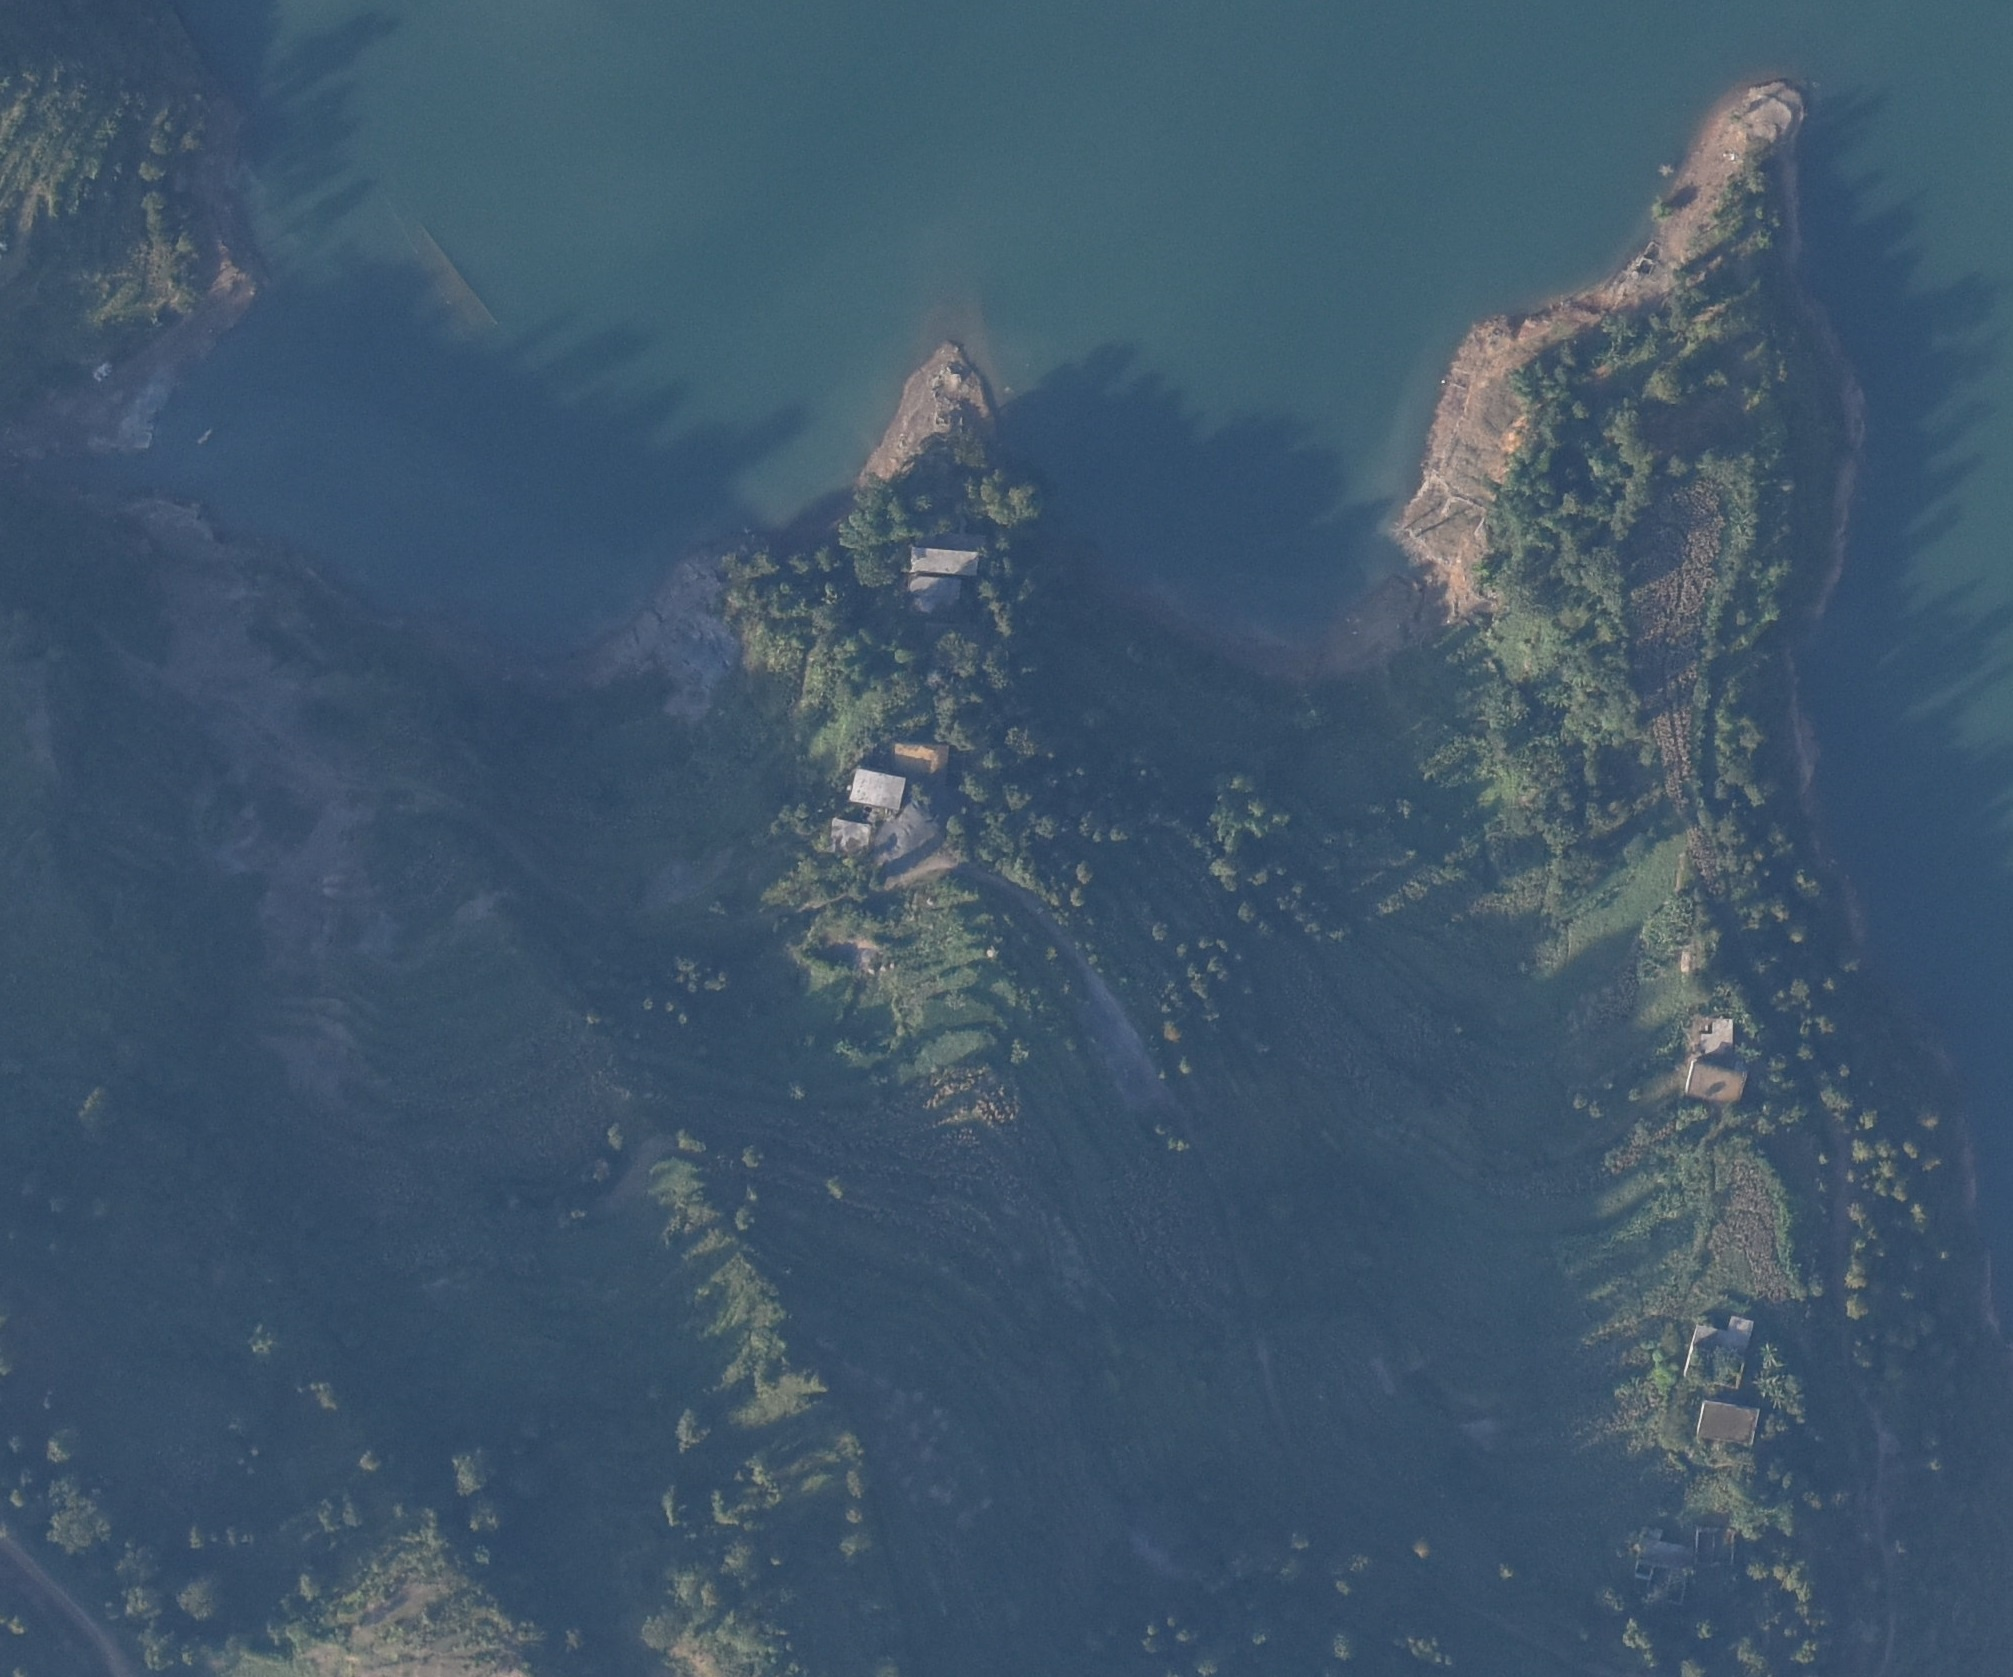building: (1685, 1316, 1750, 1387), (1681, 1059, 1750, 1106), (1695, 1403, 1762, 1449), (901, 572, 966, 619), (906, 542, 988, 575), (851, 765, 906, 812), (893, 742, 950, 784), (829, 819, 867, 852), (1705, 1017, 1734, 1059)
